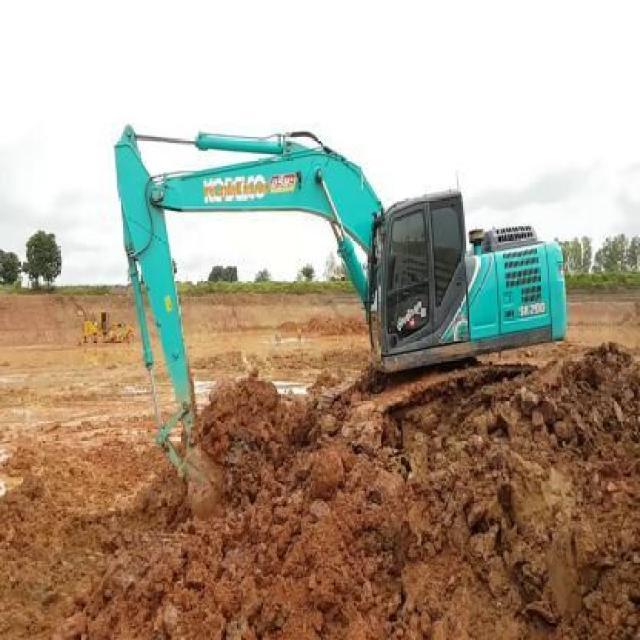excavator: (112, 123, 566, 528)
